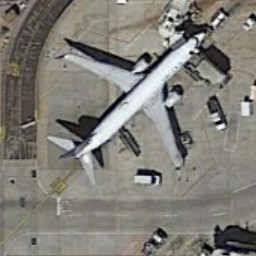Airplane: (38, 24, 208, 188)
